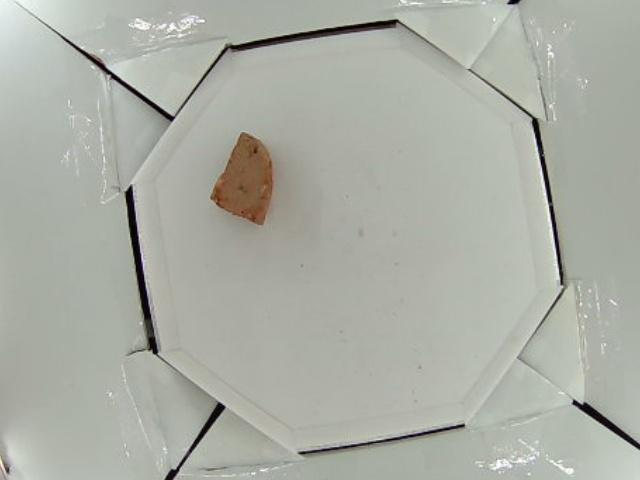Brisk: (209, 133, 272, 228)
